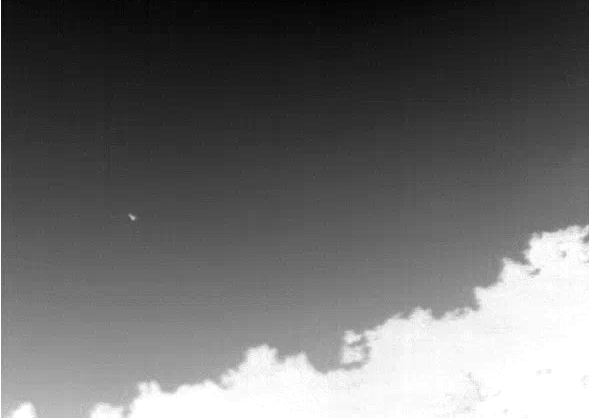dim target: (125, 211, 139, 223)
